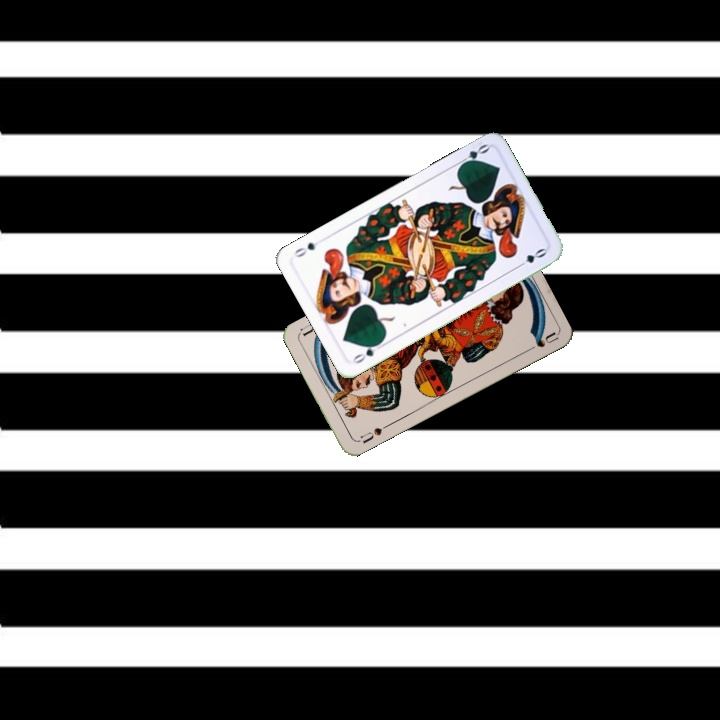GO: (453, 140, 492, 170), (348, 338, 386, 366)
SU: (356, 420, 391, 446)
